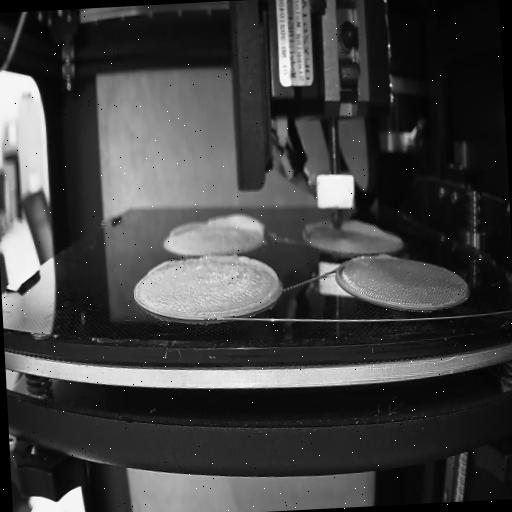over_extrusion: (202, 251, 280, 318), (206, 212, 269, 244), (343, 214, 402, 248), (146, 256, 182, 279), (168, 217, 203, 238), (297, 218, 331, 233), (373, 252, 397, 264)
